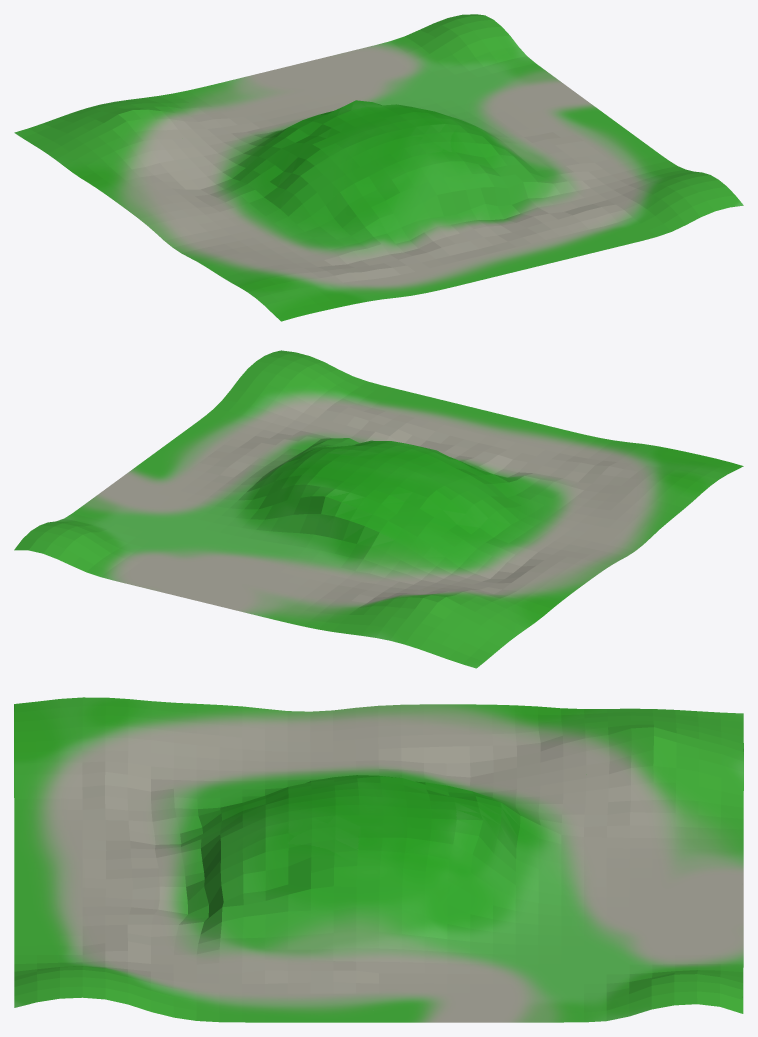
Rendered from SimplisticTerrain.fbx.
3 renders of one model, top to bottom at view 1: azimuth 30°, elevation 25°; view 2: azimuth 150°, elevation 25°; view 3: azimuth 270°, elevation 25°, orthographic. The views are drawn at different scales.
Parts seen in each view (by area): view 1: Plane; view 2: Plane; view 3: Plane.
Part boxes in pixels (x1=…): Plane: x1=14, y1=14, x2=743, y2=321; Plane: x1=14, y1=350, x2=743, y2=668; Plane: x1=14, y1=697, x2=743, y2=1022.
Size of the model in its own units: 4008 by 444 by 4004.
